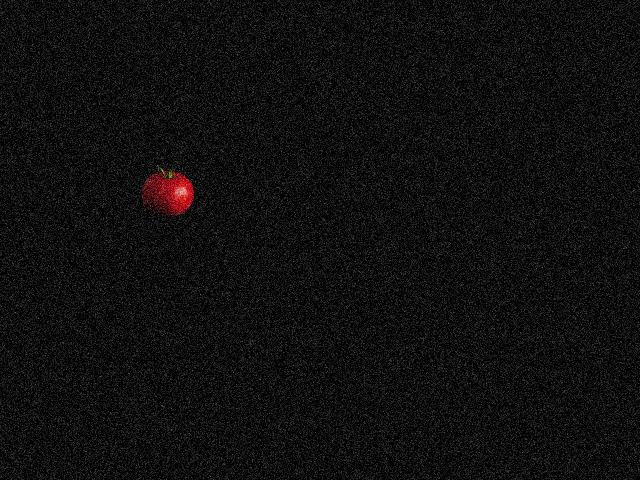tomato: (141, 171, 193, 215)
